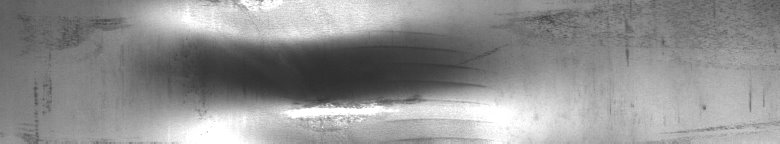ke: (269, 15, 562, 120)
